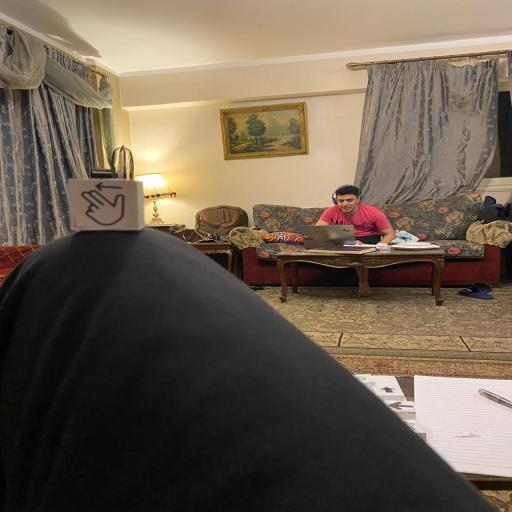LeftSwipe: (66, 178, 145, 232)
